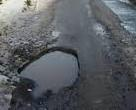alligator-crack: (0, 20, 58, 66)
pothole: (15, 45, 83, 99)
